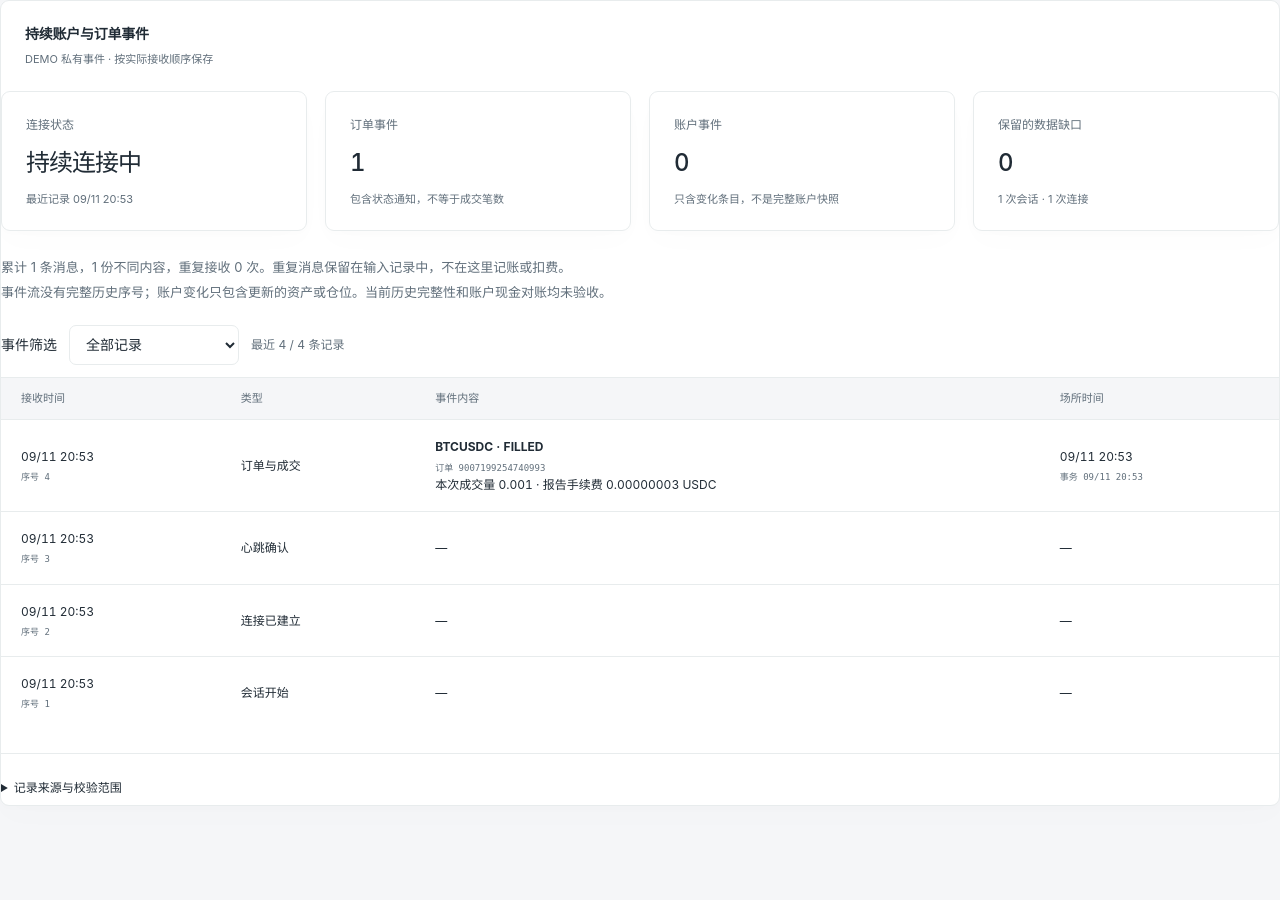
Test case: filters transport events while retaining exact large order identifiers and commission
This screenshot has width=1280, height=900.
Step 1. Select "账户与订单事件" in the dropdown labelled "事件筛选" → (154, 345), box [69,325,239,365]
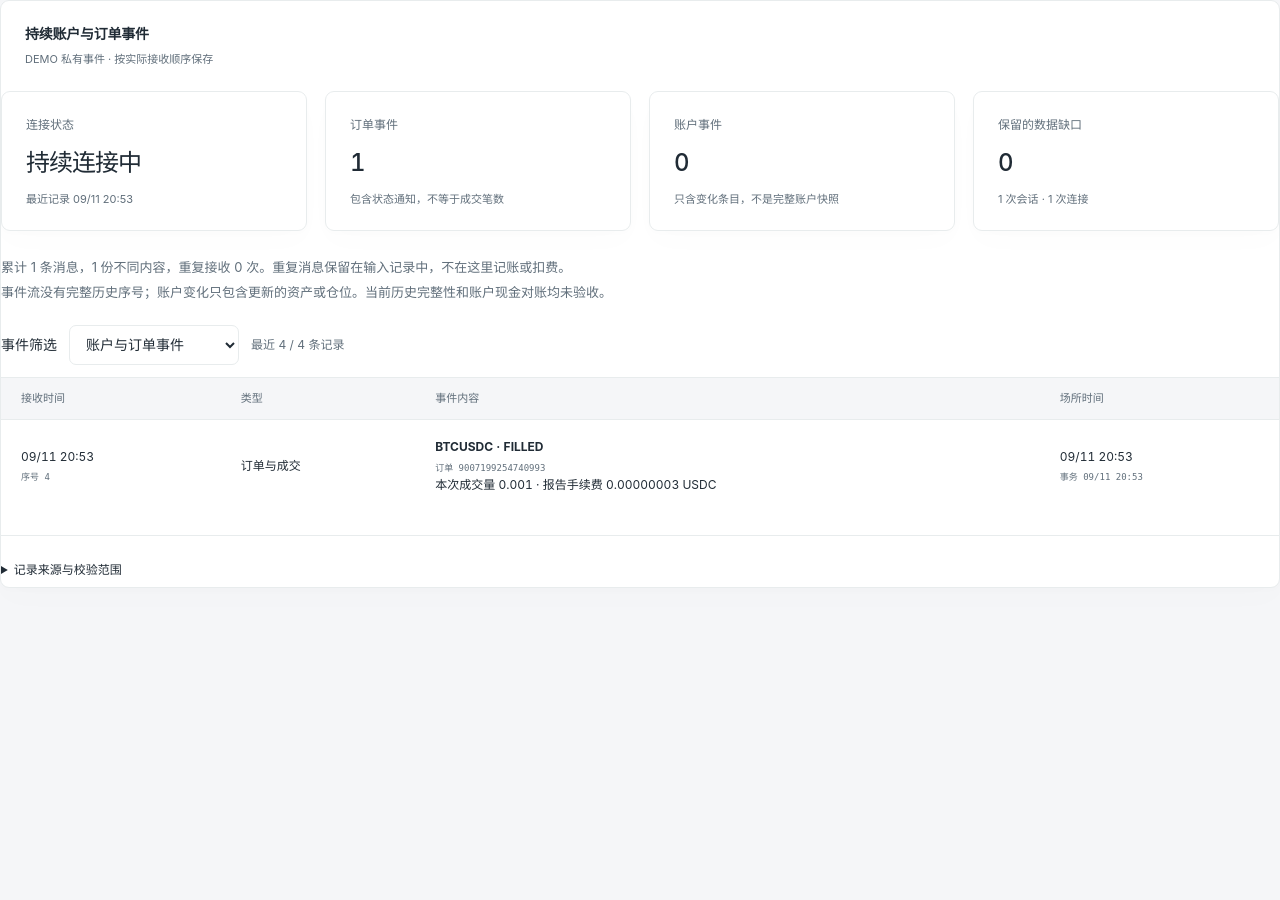
Expected: the text "订单 9007199254740993" is shown, [435,462,545,472]
Result: the text "会话开始" is gone
